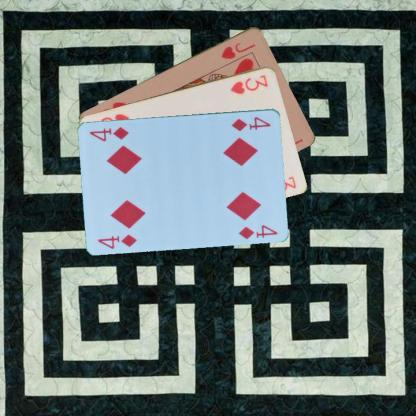3h: (228, 72, 269, 95)
4d: (95, 231, 139, 250), (230, 114, 272, 132)
Jh: (219, 39, 257, 60)
